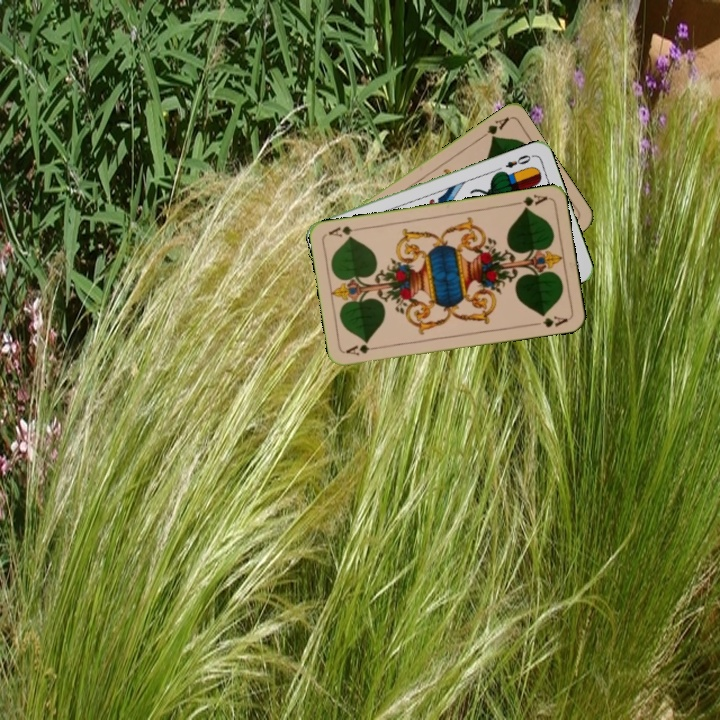EO: (501, 151, 536, 171)
GA: (476, 113, 512, 142), (510, 191, 550, 213), (342, 340, 383, 358)
